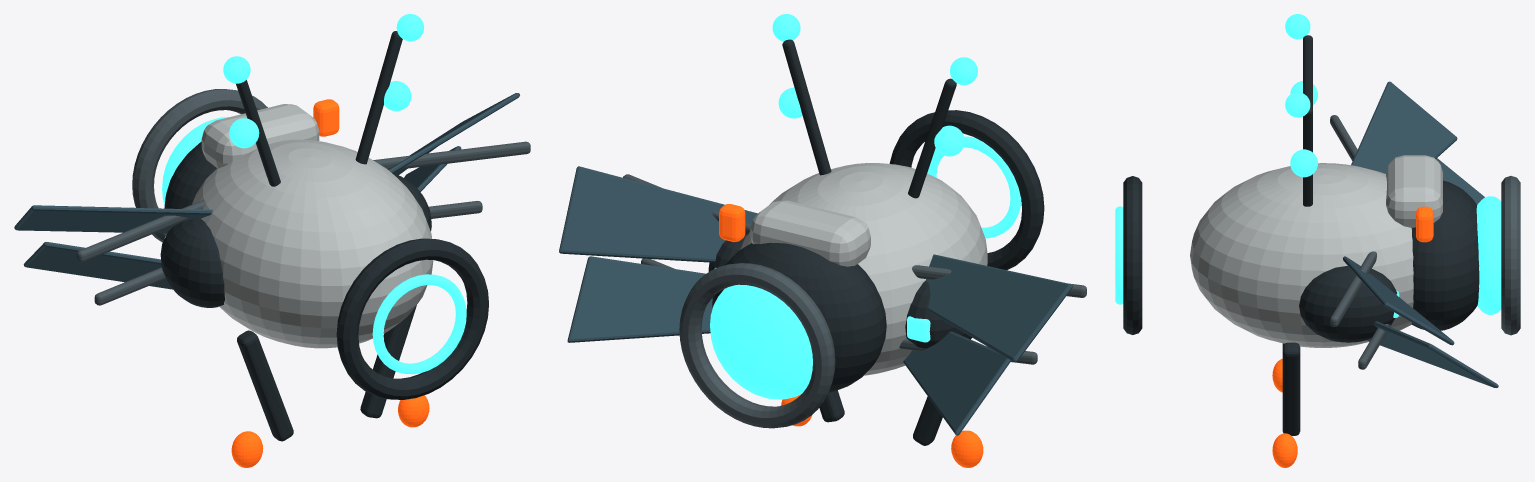
Rendered from MUSCA_FormProxy_v0.31.fbx.
3 renders of one model, left to right at view 1: azimuth 30°, elevation 25°; view 2: azimuth 150°, elevation 25°; view 3: azimuth 270°, elevation 25°, orthographic. The views are drawn at different scales.
Visible parts, largest first — view 1: M03_Shell, M03_Detail_OpticHousing, M03_SidePod_-1, M03_OpticRing, M03_WingUpper_-1, M03_Detail_DorsalPanel, M03_WingLower_-1, M03_Detail_Iris, M03_Manipulator_-1, M03_Core, M03_Spar_1_0.03, M03_Antenna_1 (+15 smaller); view 2: M03_Shell, M03_WingUpper_1, M03_OpticRing, M03_WingUpper_-1, M03_Optic, M03_Core, M03_WingLower_1, M03_Detail_OpticHousing, M03_WingLower_-1, M03_Detail_DorsalPanel, M03_Antenna_1, M03_Detail_Iris (+12 smaller); view 3: M03_Shell, M03_Core, M03_WingUpper_-1, M03_SidePod_1, M03_Detail_DorsalPanel, M03_OpticRing, M03_Detail_OpticHousing, M03_Optic, M03_WingLower_1, M03_Manipulator_1, M03_WingUpper_1, M03_Detail_Iris (+11 smaller).
Part boxes in pixels (bbox=[...]): M03_Shell: bbox=[192, 139, 433, 348]; M03_Detail_OpticHousing: bbox=[336, 238, 488, 399]; M03_SidePod_-1: bbox=[160, 218, 224, 307]; M03_OpticRing: bbox=[132, 89, 267, 242]; M03_WingUpper_-1: bbox=[14, 205, 212, 233]; M03_Detail_DorsalPanel: bbox=[201, 104, 319, 168]; M03_WingLower_-1: bbox=[23, 242, 172, 289]; M03_Detail_Iris: bbox=[372, 274, 466, 374]; M03_Manipulator_-1: bbox=[237, 330, 293, 441]; M03_Core: bbox=[164, 141, 216, 208]; M03_Spar_1_0.03: bbox=[373, 141, 530, 169]; M03_Antenna_1: bbox=[355, 31, 402, 164]; M03_Shell: bbox=[740, 163, 987, 375]; M03_WingUpper_1: bbox=[559, 166, 757, 262]; M03_OpticRing: bbox=[679, 263, 835, 428]; M03_WingUpper_-1: bbox=[926, 254, 1072, 362]; M03_Optic: bbox=[710, 284, 812, 399]; M03_Core: bbox=[712, 242, 886, 392]; M03_WingLower_1: bbox=[567, 256, 712, 342]; M03_Detail_OpticHousing: bbox=[889, 110, 1044, 269]; M03_WingLower_-1: bbox=[903, 331, 1010, 435]; M03_Detail_DorsalPanel: bbox=[750, 200, 870, 266]; M03_Antenna_1: bbox=[782, 39, 831, 175]; M03_Detail_Iris: bbox=[927, 136, 1021, 238]; M03_Shell: bbox=[1190, 163, 1413, 347]; M03_Core: bbox=[1411, 180, 1479, 330]; M03_WingUpper_-1: bbox=[1351, 81, 1457, 173]; M03_SidePod_1: bbox=[1299, 266, 1397, 342]; M03_Detail_DorsalPanel: bbox=[1386, 155, 1442, 227]; M03_OpticRing: bbox=[1501, 176, 1520, 335]; M03_Detail_OpticHousing: bbox=[1123, 176, 1142, 334]; M03_Optic: bbox=[1476, 196, 1501, 314]; M03_WingLower_1: bbox=[1367, 321, 1498, 387]; M03_Manipulator_1: bbox=[1282, 342, 1300, 435]; M03_WingUpper_1: bbox=[1343, 256, 1454, 345]; M03_Detail_Iris: bbox=[1115, 206, 1123, 304].
Bounding box in the file's own units: 40.91 × 32.6 × 31.94.
